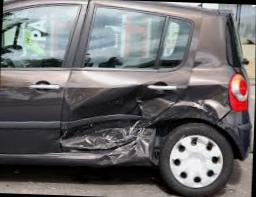Bumper: (220, 111, 254, 161)
Door: (57, 68, 191, 165)
Fender: (158, 66, 234, 126)
